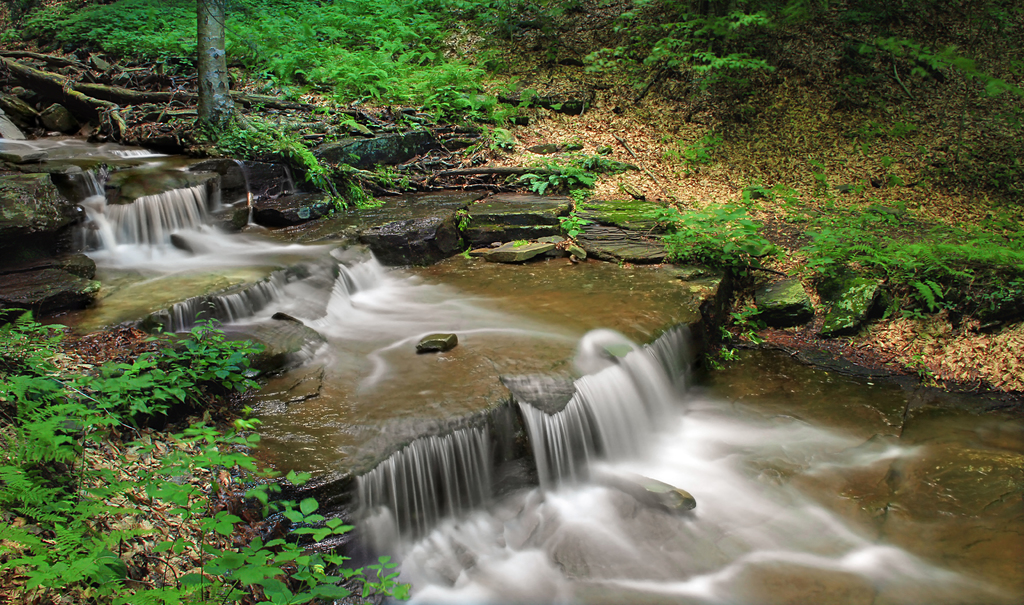Tree: (582, 0, 824, 111), (196, 0, 234, 121)
